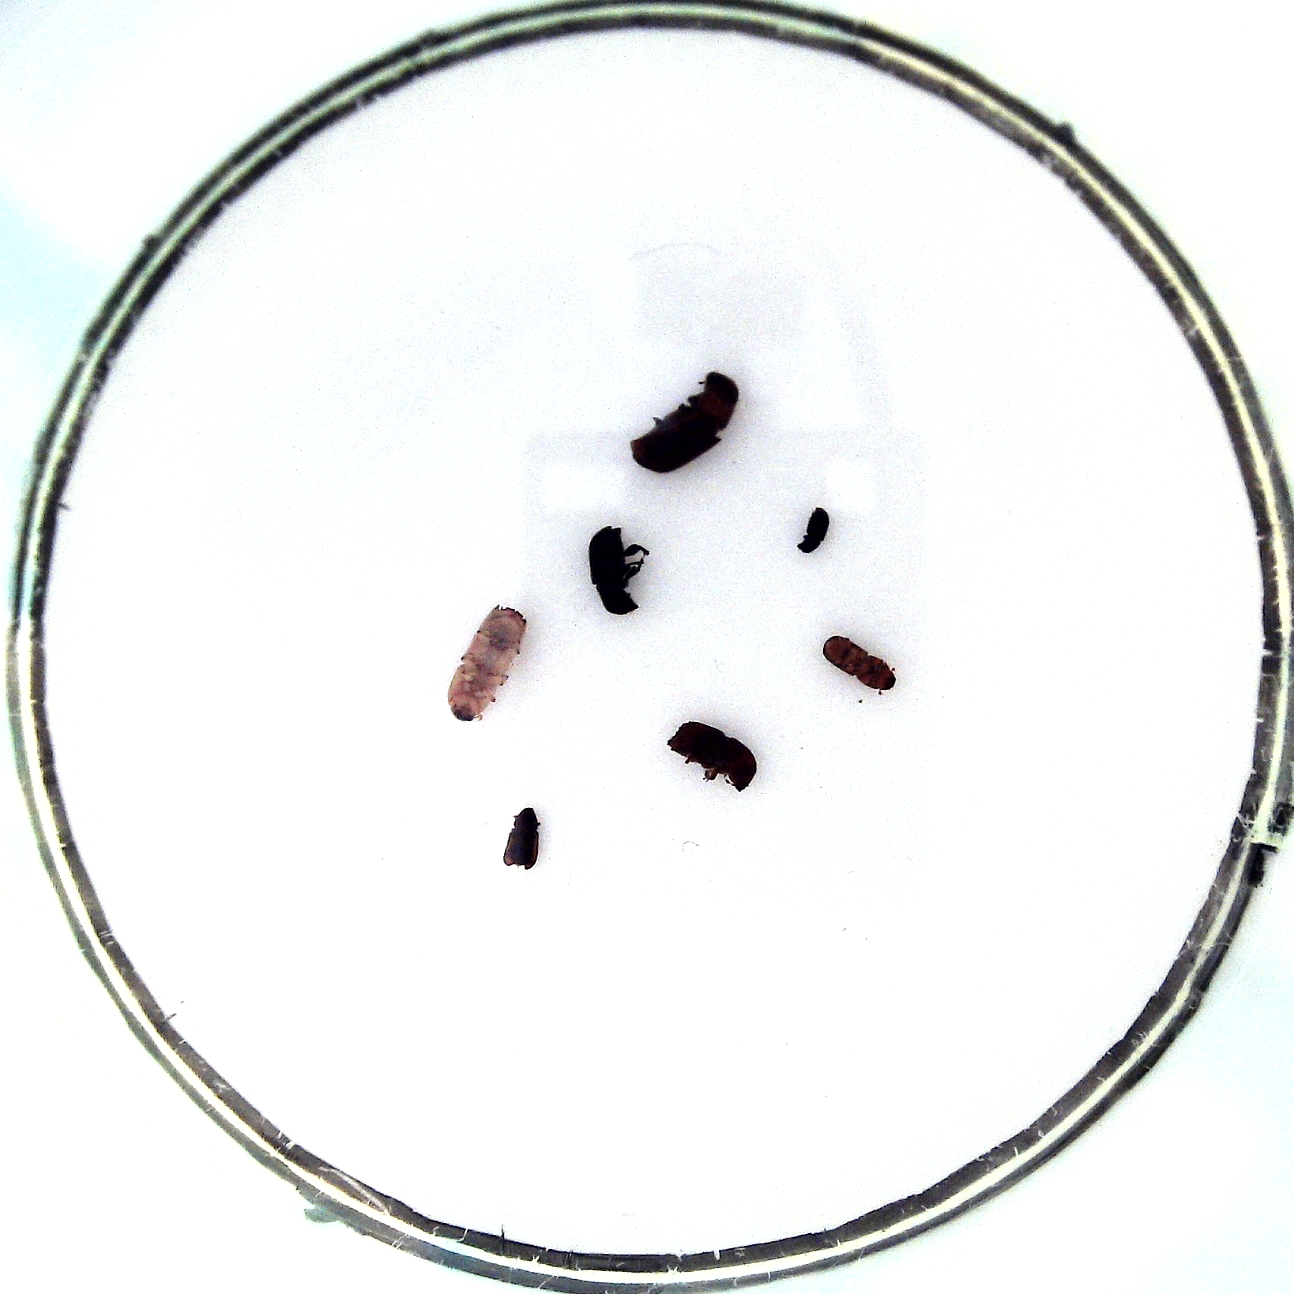Boerner: (447, 606, 527, 722)
Leconte: (630, 371, 739, 474)
acuminatus: (796, 506, 829, 553)
armandi: (588, 526, 639, 615)
coleoptera: (824, 635, 896, 690), (502, 806, 539, 870)
linnaeus: (666, 720, 758, 793)
